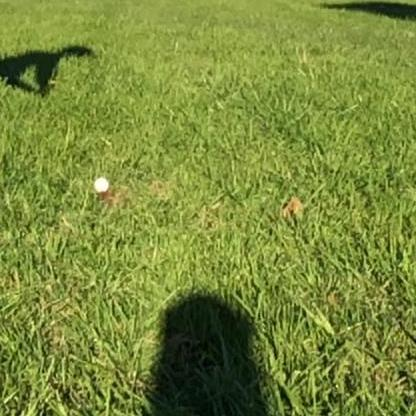golfball: (91, 173, 108, 192)
